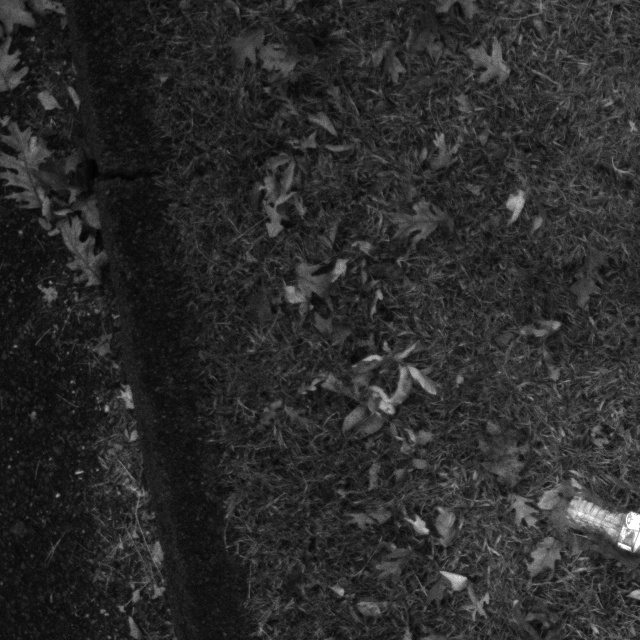bottle: (556, 484, 640, 561)
